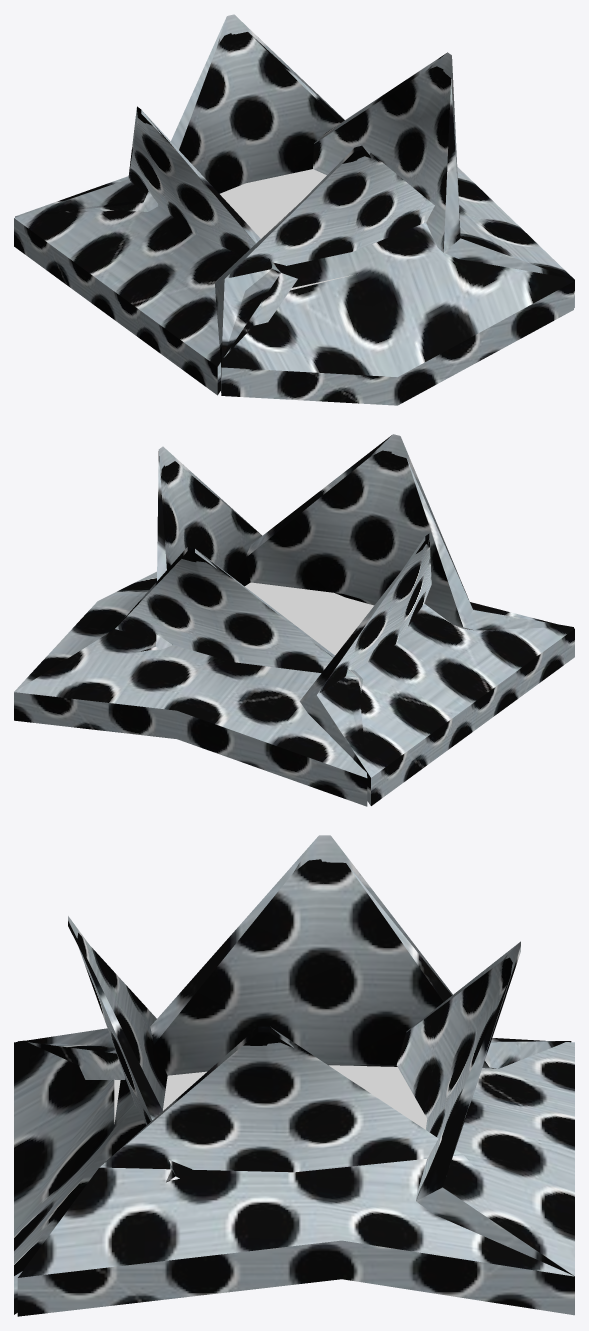
Rendered from hole in wall.FBX.
The picture shows the model from 3 angles, top to bottom: view 1: azimuth 30°, elevation 25°; view 2: azimuth 150°, elevation 25°; view 3: azimuth 270°, elevation 25°; orthographic projection. The views are drawn at different scales.
Parts seen in each view (by area): view 1: Box002, Plane001; view 2: Box002, Plane001; view 3: Box002, Plane001.
Boxes of the visible parts, x1,y1,x2,y2 form: Box002: (14,14,574,405); Plane001: (220,169,352,290); Box002: (14,434,574,806); Plane001: (245,582,374,655); Box002: (14,835,574,1316); Plane001: (114,1065,427,1129).
Bounding box in the file's own units: 20.23 × 13.48 × 20.23.
1 material, 1 textured.
